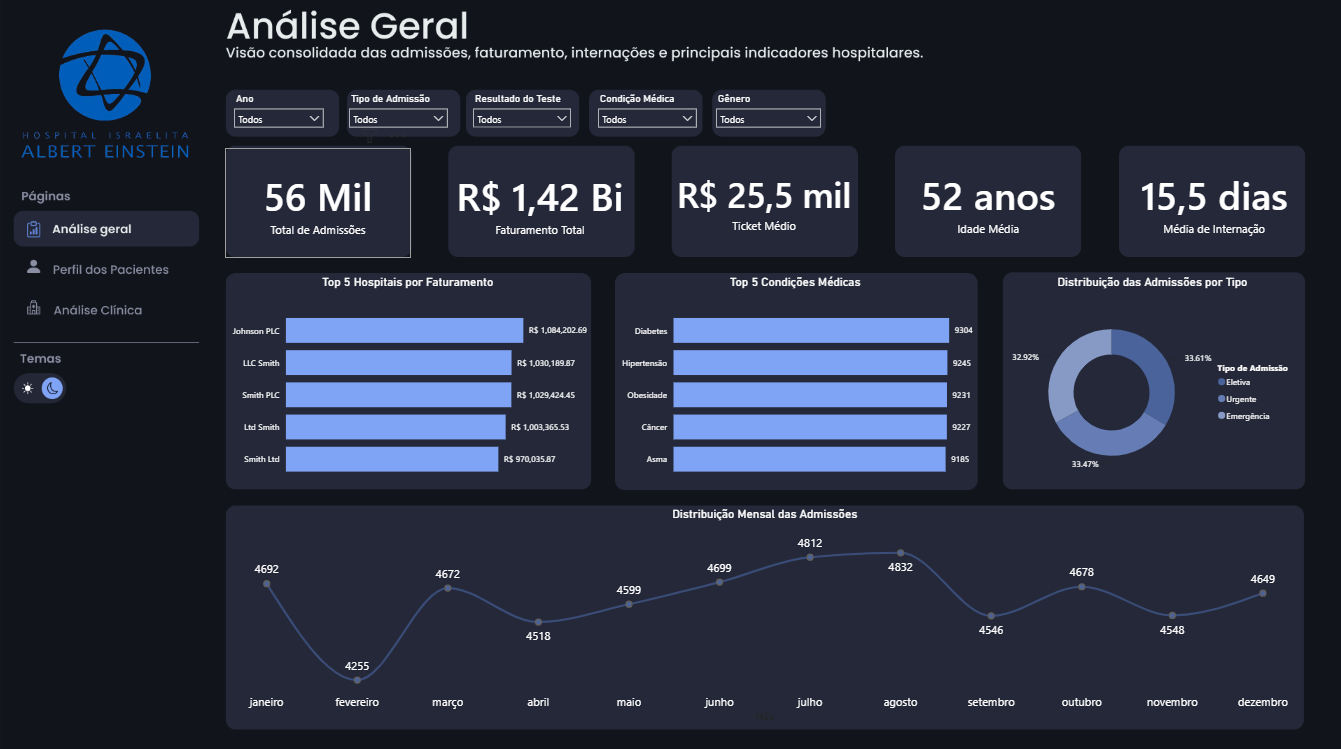

This screenshot's page, from the dashboard's own definition file:
{"tool":"powerbi","page":{"name":"Visão Geral Hospitalar","canvas":[1920,1080],"ordinal":0},"visuals":[{"type":"lineChart","title":"Distribuição Mensal das Admissões","fields":{"Category":["healthcare_dataset.Admission Month Date.Variation.Hierarquia de datas.Ano","healthcare_dataset.Admission Month Date.Variation.Hierarquia de datas.Mês"],"Y":["Medidas.Total Admissions"]},"box":[325.8,725,1536.7,312.5],"z":0},{"type":"barChart","title":"\t Top 5 Condições Médicas","fields":{"Category":["healthcare_dataset.Medical Condition"],"Y":["Medidas.Total Admissions"]},"box":[878.9,393.3,517.8,305.6],"z":1000},{"type":"barChart","title":"\t Top 5 Hospitais por Faturamento","fields":{"Category":["healthcare_dataset.Hospital"],"Y":["Medidas.Total Billing"]},"box":[323.3,393.3,522.2,305.6],"z":2000},{"type":"donutChart","title":"Distribuição das Admissões por Tipo","fields":{"Category":["healthcare_dataset.Admission Type"],"Y":["Medidas.Total Admissions"]},"box":[1432.9,392.9,430,305.7],"z":3000},{"type":"slicer","fields":{"Values":["healthcare_dataset.Admission Year"]},"box":[326,126.7,147.8,56.1],"z":4000},{"type":"slicer","fields":{"Values":["healthcare_dataset.Gender"]},"box":[1014.7,126.5,170,56.2],"z":5000},{"type":"slicer","fields":{"Values":["healthcare_dataset.Medical Condition"]},"box":[845.4,126.9,160.8,56.2],"z":6000},{"type":"cardVisual","fields":{"Data":["Medidas.Total de Admissões"]},"box":[322.6,210.7,266.3,158.1],"z":7000},{"type":"slicer","fields":{"Values":["healthcare_dataset.Admission Type"]},"box":[490,126.7,160.8,56.2],"z":8000},{"type":"cardVisual","fields":{"Data":["Medidas.Faturamento Total Texto"]},"box":[621.7,211.7,303.3,158.3],"z":9000},{"type":"slicer","fields":{"Values":["healthcare_dataset.Test Results"]},"box":[667.3,126.7,160,54.7],"z":10000},{"type":"cardVisual","fields":{"Data":["Medidas.Idade Média"]},"box":[1266.4,210,295,158.3],"z":12000},{"type":"cardVisual","fields":{"Data":["Medidas.Média de Internação"]},"box":[1588.2,210,295,158.3],"z":13000},{"type":"cardVisual","fields":{"Data":["Medidas.Ticket Médio Texto"]},"box":[919.1,208.8,349.8,159.6],"z":13001},{"type":"pageNavigator","box":[53.3,368.9,213.3,33.3],"z":13002},{"type":"pageNavigator","box":[53.3,427.8,213.3,33.3],"z":13003}]}

Visuals, with their boxes on the page's 1920x1080 design canvas (x1, y1, x2, y2). These are canvas units, not pixel positions in the 1341x749 screenshot, which may show the page scaled, cropped or inside an application window:
"Distribuição Mensal das Admissões" lineChart: 326,725,1862,1038
"	 Top 5 Condições Médicas" barChart: 879,393,1397,699
"	 Top 5 Hospitais por Faturamento" barChart: 323,393,846,699
"Distribuição das Admissões por Tipo" donutChart: 1433,393,1863,699
slicer - healthcare_dataset.Admission Year: 326,127,474,183
slicer - healthcare_dataset.Gender: 1015,126,1185,183
slicer - healthcare_dataset.Medical Condition: 845,127,1006,183
cardVisual - Medidas.Total de Admissões: 323,211,589,369
slicer - healthcare_dataset.Admission Type: 490,127,651,183
cardVisual - Medidas.Faturamento Total Texto: 622,212,925,370
slicer - healthcare_dataset.Test Results: 667,127,827,181
cardVisual - Medidas.Idade Média: 1266,210,1561,368
cardVisual - Medidas.Média de Internação: 1588,210,1883,368
cardVisual - Medidas.Ticket Médio Texto: 919,209,1269,368
pageNavigator: 53,369,267,402
pageNavigator: 53,428,267,461
